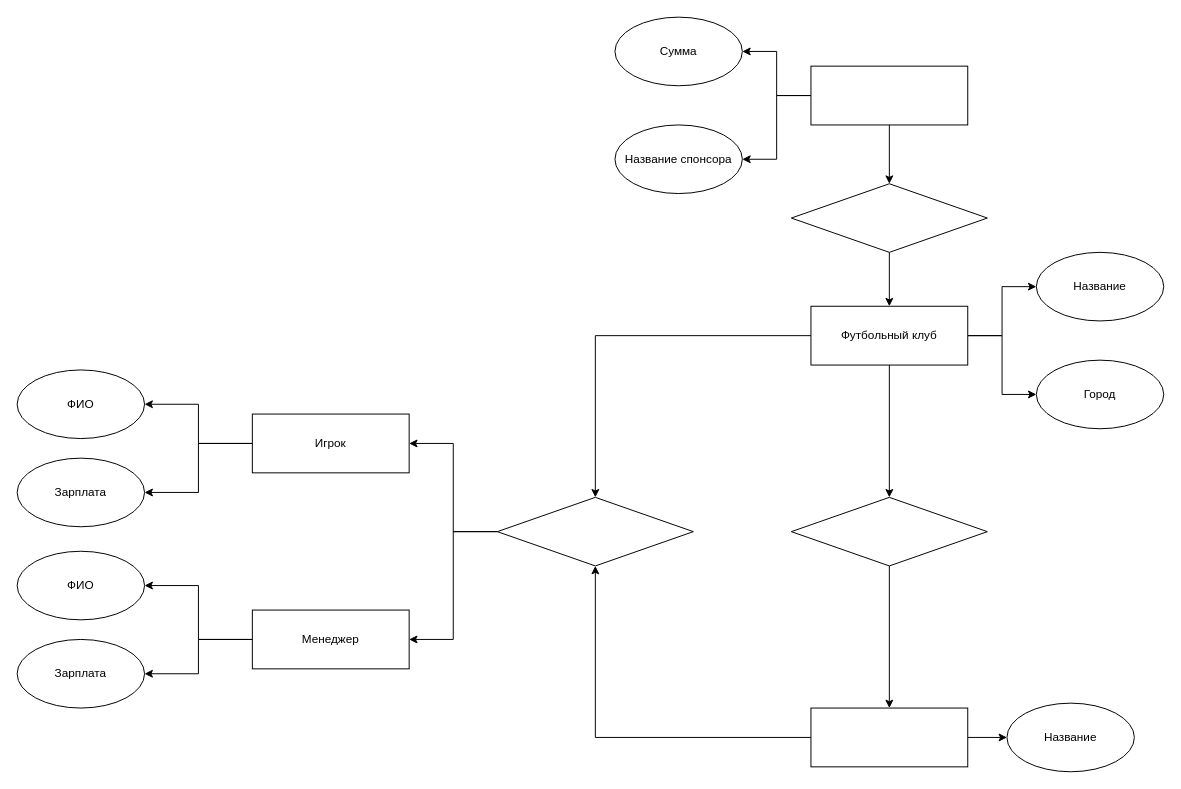
Some shapes in this 1181 by 789 pixel diagram are drawn without their labels. Here are the shapes that lost their labels. From the top down, the box of each, then its label:
(810, 65, 968, 125): Спонсор
(790, 183, 987, 252): Спонсирует
(496, 496, 693, 566): Состоит
(790, 496, 987, 566): Владение
(810, 707, 968, 767): Дочерний футбольный клуб
